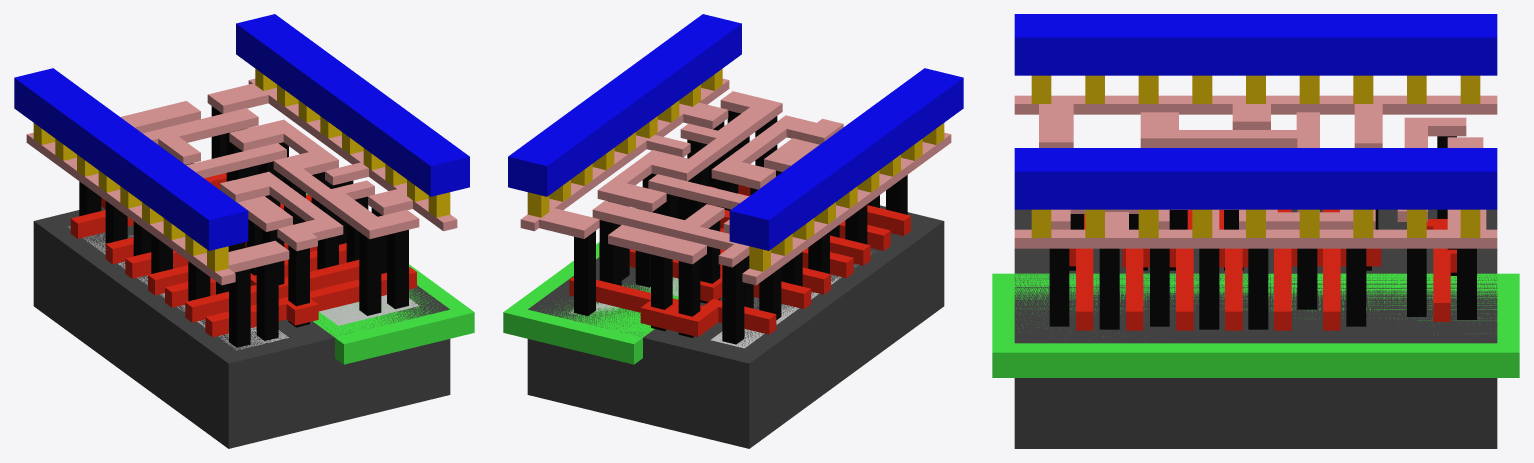
Rendered from sky130_fd_sc_hd__a21boi_2.obj.
The picture shows the model from 3 angles, left to right: view 1: azimuth 30°, elevation 25°; view 2: azimuth 150°, elevation 25°; view 3: azimuth 270°, elevation 25°; orthographic projection. The views are drawn at different scales.
Visible parts, largest first — view 1: subs, metal1, li, licon, poly, nwell, mcon, tap, diff; view 2: subs, metal1, li, licon, poly, nwell, mcon, diff; view 3: metal1, subs, li, nwell, licon, poly, mcon.
Boxes of the visible parts, x1=… form: subs: x1=33, y1=206, x2=450, y2=448; metal1: x1=14, y1=14, x2=469, y2=250; li: x1=26, y1=78, x2=457, y2=285; licon: x1=79, y1=106, x2=408, y2=347; poly: x1=70, y1=173, x2=416, y2=337; nwell: x1=306, y1=193, x2=474, y2=364; mcon: x1=33, y1=68, x2=450, y2=271; tap: x1=319, y1=295, x2=419, y2=325; diff: x1=68, y1=226, x2=288, y2=350; subs: x1=527, y1=205, x2=944, y2=448; metal1: x1=508, y1=14, x2=963, y2=250; li: x1=520, y1=78, x2=951, y2=285; licon: x1=574, y1=110, x2=907, y2=344; poly: x1=569, y1=184, x2=910, y2=336; nwell: x1=503, y1=242, x2=678, y2=364; mcon: x1=527, y1=68, x2=944, y2=271; diff: x1=710, y1=252, x2=875, y2=348; metal1: x1=1014, y1=14, x2=1497, y2=209; subs: x1=1014, y1=209, x2=1497, y2=448; li: x1=1014, y1=95, x2=1497, y2=248; nwell: x1=992, y1=273, x2=1519, y2=377; licon: x1=1049, y1=136, x2=1476, y2=329; poly: x1=1069, y1=209, x2=1456, y2=330; mcon: x1=1031, y1=75, x2=1480, y2=237.
Size of the model in its own units: 3.2 by 2.74 by 4.52.
